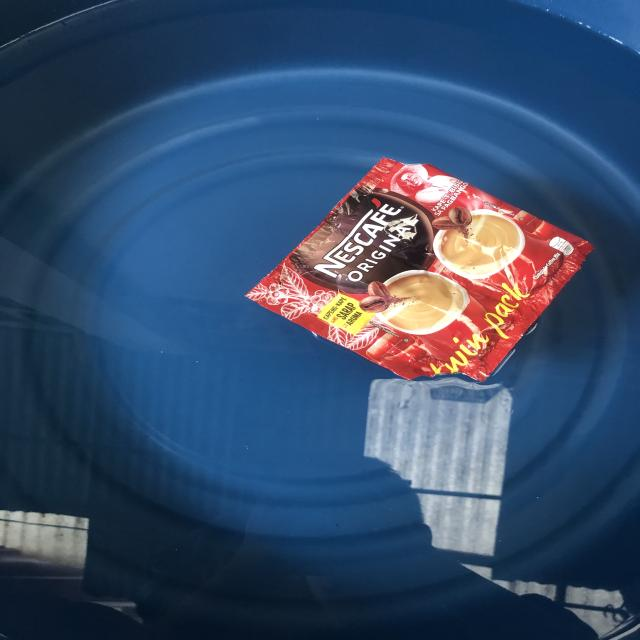Plastic Wrapper: (235, 129, 618, 408)
